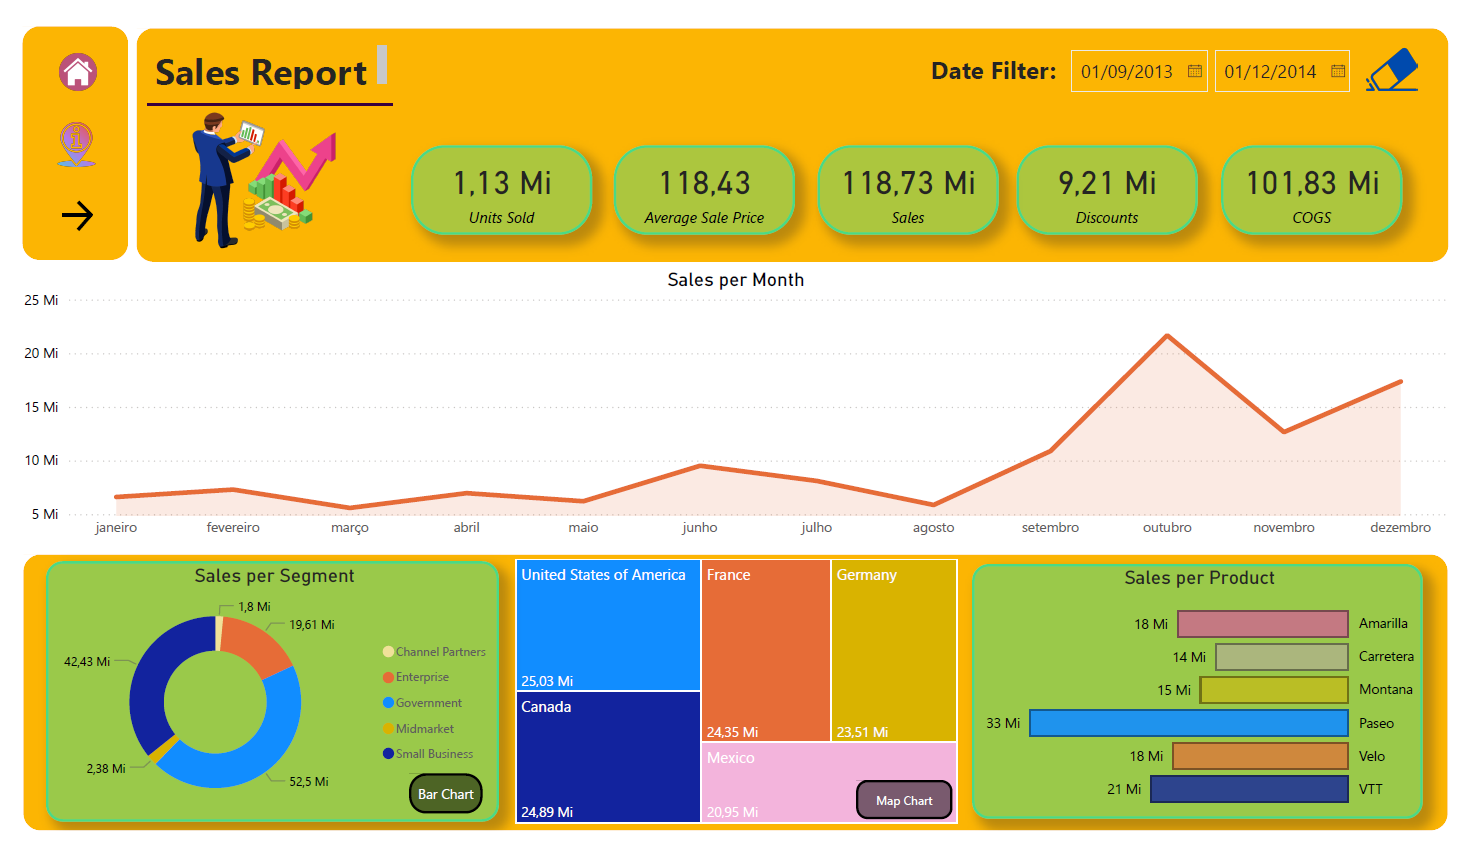

What the dashboard file says about the page in this screenshot:
{"tool":"powerbi","page":{"name":"Main","canvas":[1280,720],"ordinal":1},"visuals":[{"type":"shape","box":[9.8,9.8,93.3,206.3],"z":0,"group":"g6"},{"type":"shape","box":[111,11.8,1159.1,206.3],"z":0,"group":"g5"},{"type":"image","box":[33.5,90.4,49.1,49.1],"z":0,"group":"g1"},{"type":"shape","box":[10.8,476.6,1258.4,243.6],"z":0,"group":"g2"},{"type":"donutChart","title":"Sales per Segment","fields":{"Category":["financials.Segment"],"Y":["Sum(financials. Sales)"]},"box":[30.5,483,400,230],"z":0,"group":"g4"},{"type":"actionButton","box":[35.6,87.6,44.2,52.1],"z":1000,"group":"g1"},{"type":"card","fields":{"Values":["Sum(financials.COGS)"]},"box":[1068.9,114.8,159.8,79.5],"z":1000,"group":"g5"},{"type":"actionButton","title":"Botão - Next","box":[39.4,159.3,36.3,36.3],"z":1000,"group":"g6"},{"type":"treemap","title":"Sales x Country - tree","fields":{"Group":["financials.Country"],"Values":["Sum(financials. Sales)"]},"box":[441,476,399.8,242.6],"z":1000,"group":"g3"},{"type":"clusteredBarChart","title":"Sales per Product","fields":{"Category":["financials.Product"],"Y":["Sum(financials. Sales)"]},"box":[849.3,485.3,397.9,225],"z":1000,"group":"g2"},{"type":"group","id":"g1","title":"Info","box":[33.5,87.6,49.1,52.1],"z":2000,"group":"g6"},{"type":"card","fields":{"Values":["Sum(financials.Discounts)"]},"box":[888.5,114.8,159.8,79.5],"z":2000,"group":"g5"},{"type":"group","id":"g2","title":"Sales","box":[10.8,476,1258.4,244.2],"z":2000},{"type":"group","id":"g3","title":"Sales x país","box":[441,476,399.8,242.6],"z":2000,"group":"g2"},{"type":"actionButton","title":"Botão - Map","box":[746.8,675.8,85.1,34.5],"z":2000,"group":"g3"},{"type":"image","box":[36.9,26,43.2,48.1],"z":3000,"group":"g7"},{"type":"card","fields":{"Values":["Sum(financials. Sales)"]},"box":[712.7,115.5,159.8,79.5],"z":3000,"group":"g5"},{"type":"lineChart","title":"Sales per Month","fields":{"Category":["financials.Date.Variation.Hierarquia de datas.Mês"],"Y":["Sum(financials. Sales)"]},"box":[11.8,223,1257.4,242.6],"z":3000},{"type":"group","id":"g4","title":"Sales x Segmento","box":[30,483,400.5,230],"z":3000,"group":"g2"},{"type":"actionButton","title":"Botão - bar","box":[351.9,670.3,64.8,35.4],"z":3000,"group":"g4"},{"type":"actionButton","box":[40.9,25.9,37.3,48.1],"z":3500,"group":"g7"},{"type":"card","fields":{"Values":["Avg(financials.Sale Price)"]},"box":[532.3,115.5,159.8,79.5],"z":4000,"group":"g5"},{"type":"group","id":"g5","title":"Filtro por data","box":[111,11.8,1159.1,206.3],"z":4500},{"type":"card","fields":{"Values":["Sum(financials.Units Sold)"]},"box":[353.9,115.5,159.8,79.5],"z":5000,"group":"g5"},{"type":"group","id":"g6","title":"Home","box":[9.8,9.8,93.3,206.3],"z":6000},{"type":"image","title":"clean","box":[1189.6,21.2,60.3,55.2],"z":6000,"group":"g5"},{"type":"group","id":"g7","title":"Home","box":[36.9,25.9,43.2,48.2],"z":6001,"group":"g6"},{"type":"actionButton","box":[1192.7,25.3,60.3,51.1],"z":7000,"group":"g5"},{"type":"slicer","fields":{"Values":["financials.Date"]},"box":[923.5,21.1,271.7,55.5],"z":8000,"group":"g5"},{"type":"textbox","box":[807.6,28.7,130.9,42.3],"z":9000,"group":"g5"},{"type":"image","box":[116.6,80.2,249,132.4],"z":10000,"group":"g5"},{"type":"shape","box":[120.8,62.8,216.2,32.7],"z":11000,"group":"g5"},{"type":"textbox","box":[122.2,21.6,214.8,48.4],"z":12000,"group":"g5"}]}

Visuals, with their boxes on the page's 1280x720 design canvas (x1, y1, x2, y2). These are canvas units, not pixel positions in the 1464x849 screenshot, which may show the page scaled, cropped or inside an application window:
shape: x1=10, y1=10, x2=103, y2=216
shape: x1=111, y1=12, x2=1270, y2=218
image: x1=34, y1=90, x2=83, y2=140
shape: x1=11, y1=477, x2=1269, y2=720
"Sales per Segment" donutChart: x1=30, y1=483, x2=430, y2=713
actionButton: x1=36, y1=88, x2=80, y2=140
card - Sum(financials.COGS): x1=1069, y1=115, x2=1229, y2=194
"Botão - Next" actionButton: x1=39, y1=159, x2=76, y2=196
"Sales x Country - tree" treemap: x1=441, y1=476, x2=841, y2=719
"Sales per Product" clusteredBarChart: x1=849, y1=485, x2=1247, y2=710
"Info" group: x1=34, y1=88, x2=83, y2=140
card - Sum(financials.Discounts): x1=888, y1=115, x2=1048, y2=194
"Sales" group: x1=11, y1=476, x2=1269, y2=720
"Sales x país" group: x1=441, y1=476, x2=841, y2=719
"Botão - Map" actionButton: x1=747, y1=676, x2=832, y2=710
image: x1=37, y1=26, x2=80, y2=74
card - Sum(financials. Sales): x1=713, y1=116, x2=872, y2=195
"Sales per Month" lineChart: x1=12, y1=223, x2=1269, y2=466
"Sales x Segmento" group: x1=30, y1=483, x2=430, y2=713
"Botão - bar" actionButton: x1=352, y1=670, x2=417, y2=706
actionButton: x1=41, y1=26, x2=78, y2=74
card - Avg(financials.Sale Price): x1=532, y1=116, x2=692, y2=195
"Filtro por data" group: x1=111, y1=12, x2=1270, y2=218
card - Sum(financials.Units Sold): x1=354, y1=116, x2=514, y2=195
"Home" group: x1=10, y1=10, x2=103, y2=216
"clean" image: x1=1190, y1=21, x2=1250, y2=76
"Home" group: x1=37, y1=26, x2=80, y2=74
actionButton: x1=1193, y1=25, x2=1253, y2=76
slicer - financials.Date: x1=924, y1=21, x2=1195, y2=77
textbox: x1=808, y1=29, x2=938, y2=71
image: x1=117, y1=80, x2=366, y2=213
shape: x1=121, y1=63, x2=337, y2=96
textbox: x1=122, y1=22, x2=337, y2=70
